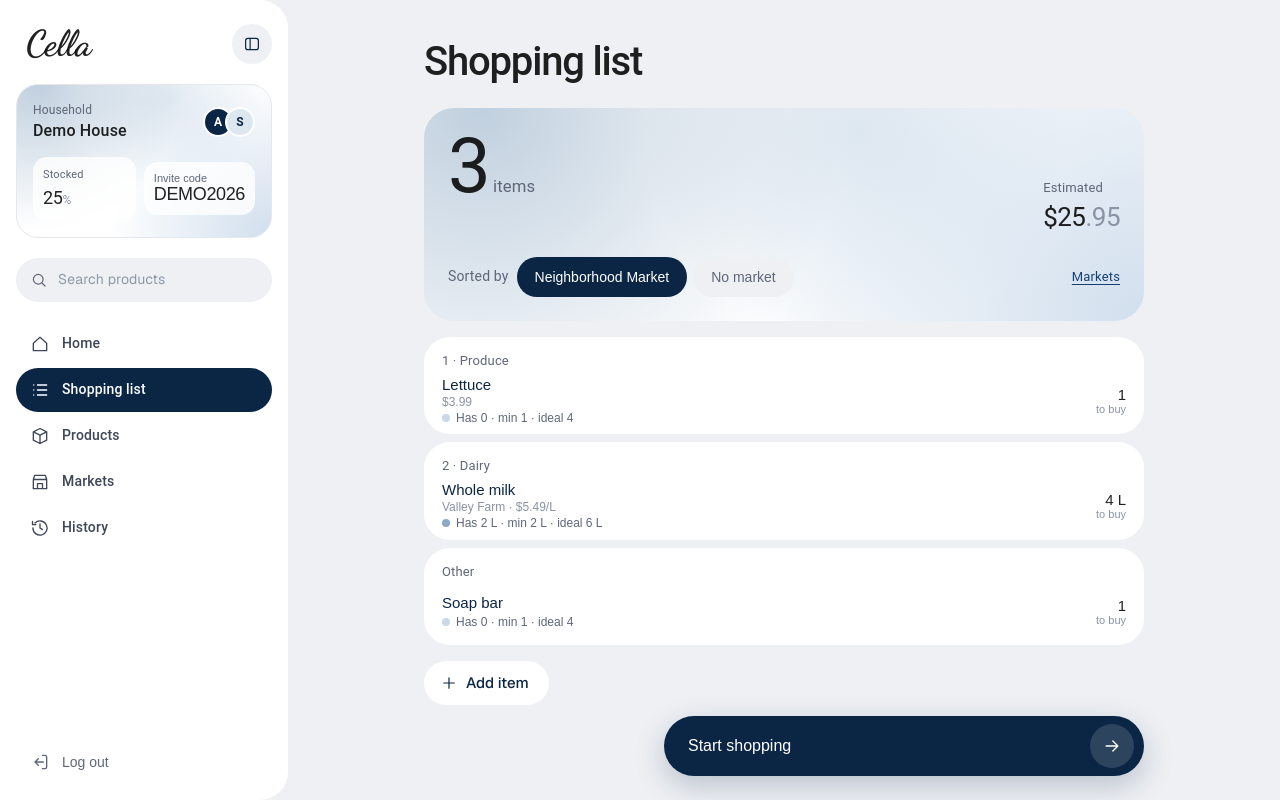
Test: Shopping list in the store › starts shopping at the chosen market
What coordinates should you click on to do the following:
click the button "Start shopping"
I would click on:
 (740, 746)
Its box is [664, 716, 1144, 776].
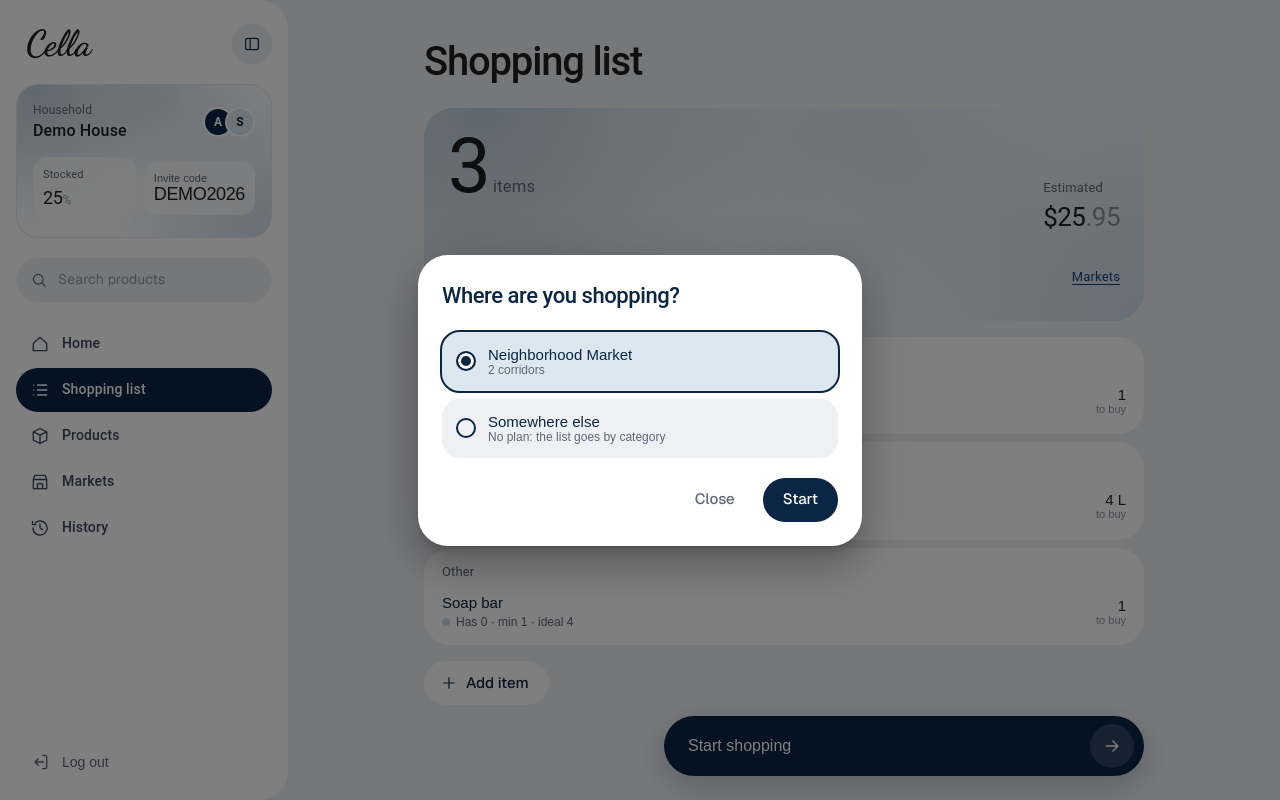
What coordinates should you click on to do the following:
click the button "Start"
I would click on:
 (800, 500)
Its box is [763, 478, 838, 522].
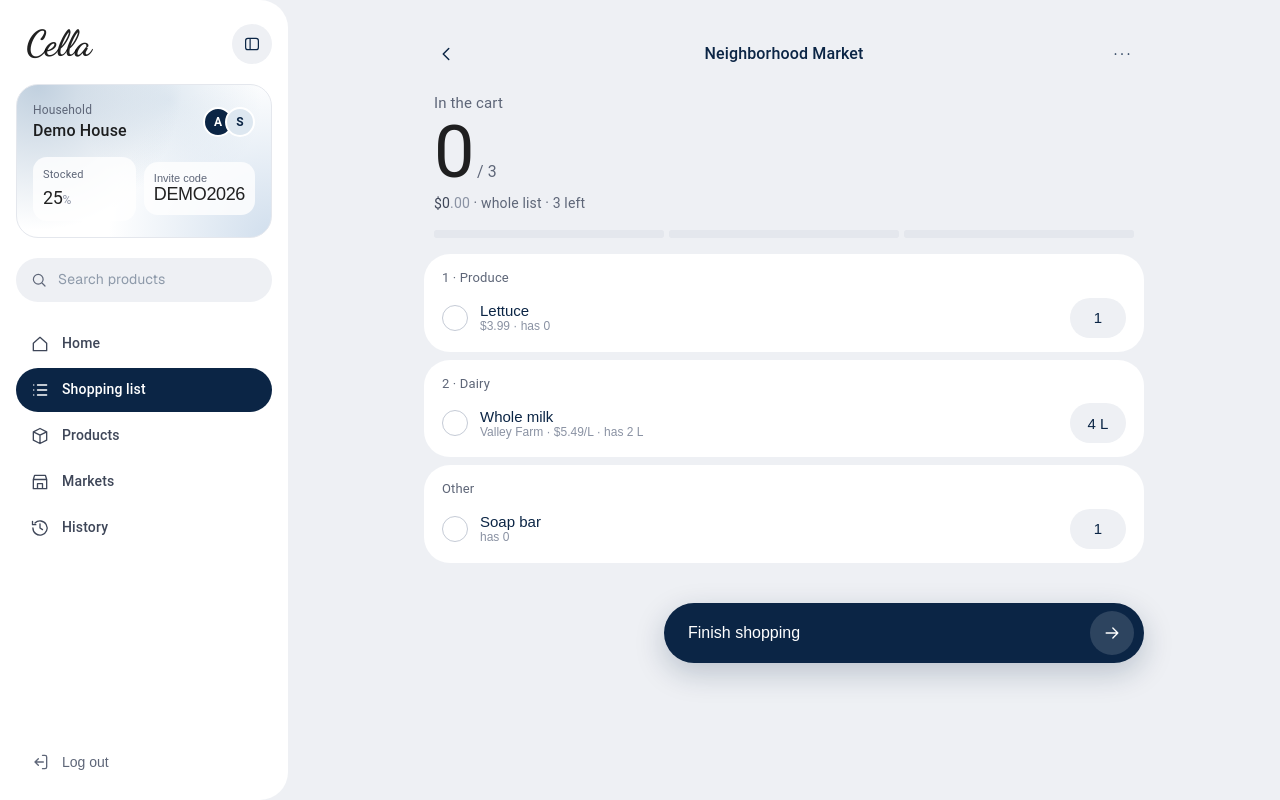
Check: the button "Finish shopping" is shown, box [664, 603, 1144, 663]
Check: the heading "Neighborhood Market" is shown, box [704, 44, 864, 63]
